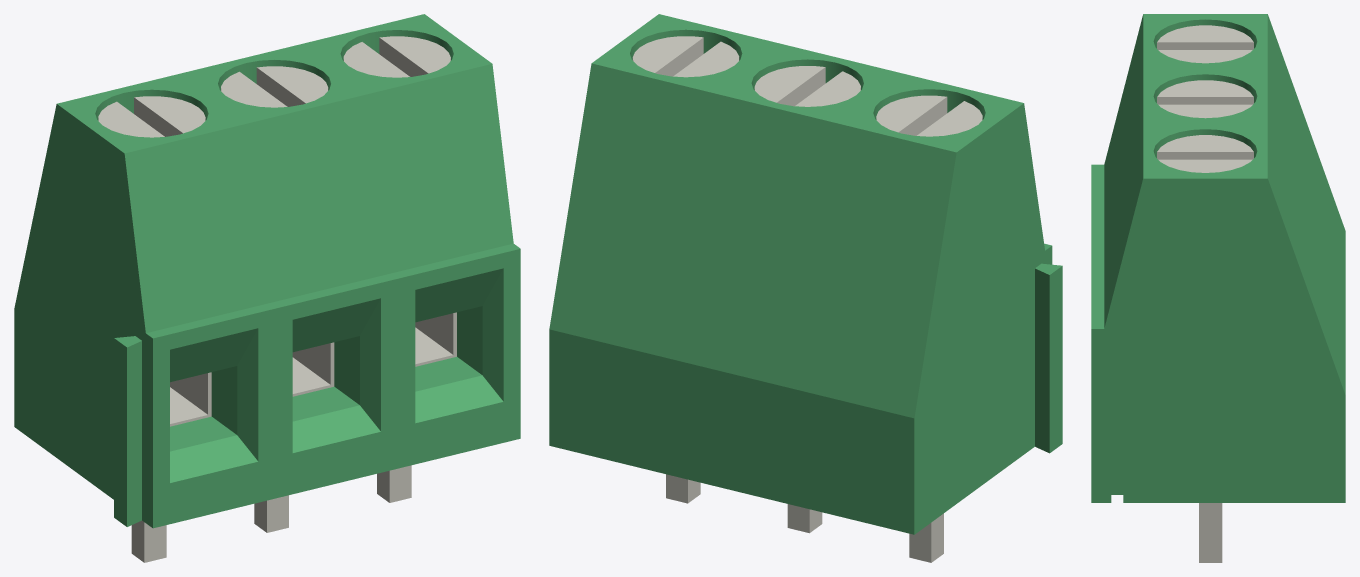
File: TerminalBlock_Phoenix_MKDS-1,5-3_1x03_P5.00mm_Horizontal.glb
3 views of the same model, side by side, from view 1: azimuth 30°, elevation 25°; view 2: azimuth 150°, elevation 25°; view 3: azimuth 270°, elevation 25° (orthographic). The views are drawn at different scales.
Parts seen in each view (by area): view 1: =>[0:1:1:3]; view 2: =>[0:1:1:3]; view 3: =>[0:1:1:3].
Boxes of the visible parts, box(x1,y1,x2,y2) form: =>[0:1:1:3]: box(14, 14, 520, 562); =>[0:1:1:3]: box(549, 14, 1062, 562); =>[0:1:1:3]: box(1091, 14, 1345, 562).
Bounding box in the file's own units: 0.0157 × 0.0173 × 0.0098.
